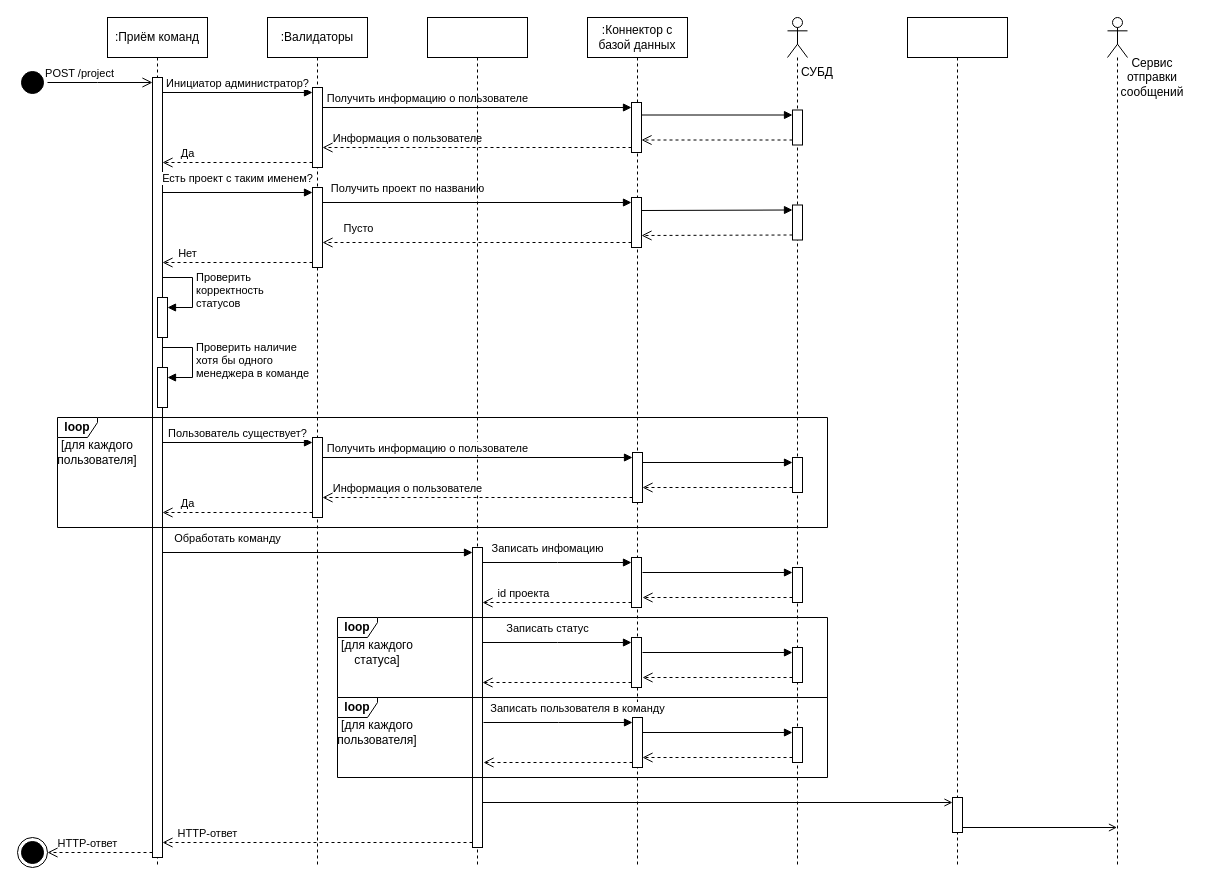
Image size: 1205x885. Some labels were removed from this diagram. The shapes that lost their labels are listed below. From the top down, each one's box as (x1, y1, x2, y2) in pixels, then its label:
(426, 16, 528, 868): :Обработчики команд
(906, 16, 1008, 868): :Компонент оповещения
